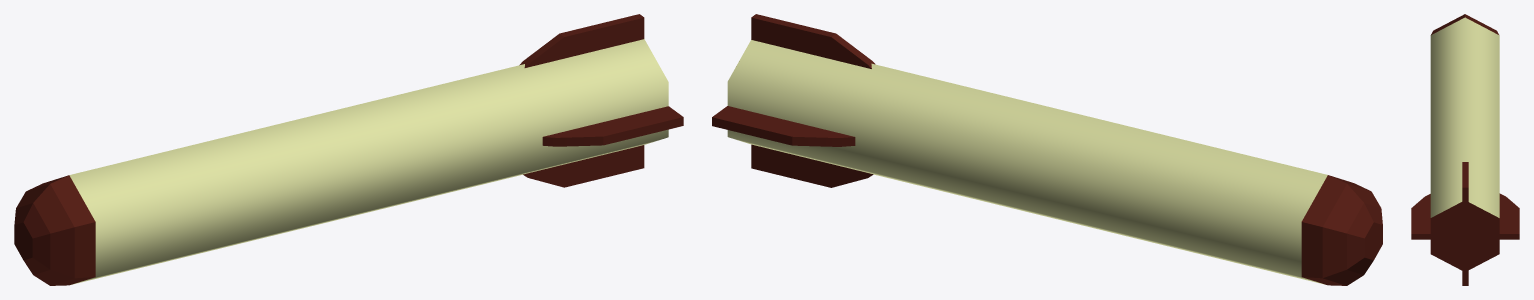
File: rocket_1.FBX
3 views of the same model, side by side, from view 1: azimuth 30°, elevation 25°; view 2: azimuth 150°, elevation 25°; view 3: azimuth 270°, elevation 25° (orthographic). The views are drawn at different scales.
Parts seen in each view (by area): view 1: rocket_1, Cylinder343; view 2: rocket_1, Cylinder343; view 3: rocket_1, Cylinder343.
Part boxes in pixels (x1,y1,x2,y2): rocket_1: [69, 39, 668, 284]; Cylinder343: [14, 14, 683, 285]; rocket_1: [727, 40, 1327, 284]; Cylinder343: [712, 14, 1382, 285]; rocket_1: [1430, 17, 1499, 217]; Cylinder343: [1411, 14, 1519, 285].
Size of the model in its own units: 4.86 by 1.13 by 1.13.
